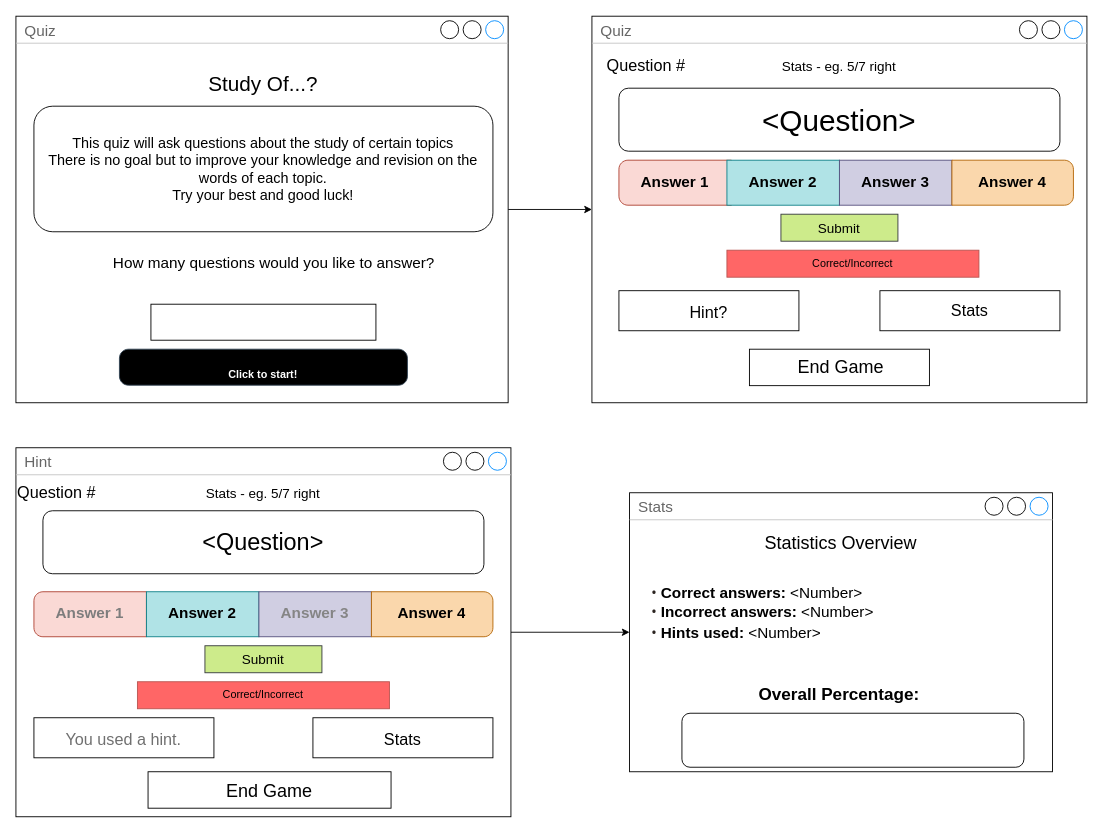
The diagram is 1116 pixels wide and 833 high, and some of its shapes have lost their labels. Here are the shapes that lost their labels. From the top down, the box of each, then its label:
(150, 303, 376, 340): Text box (Amount of questions set here)
(119, 354, 407, 369): Play
(681, 712, 1024, 767): <Percentage>
